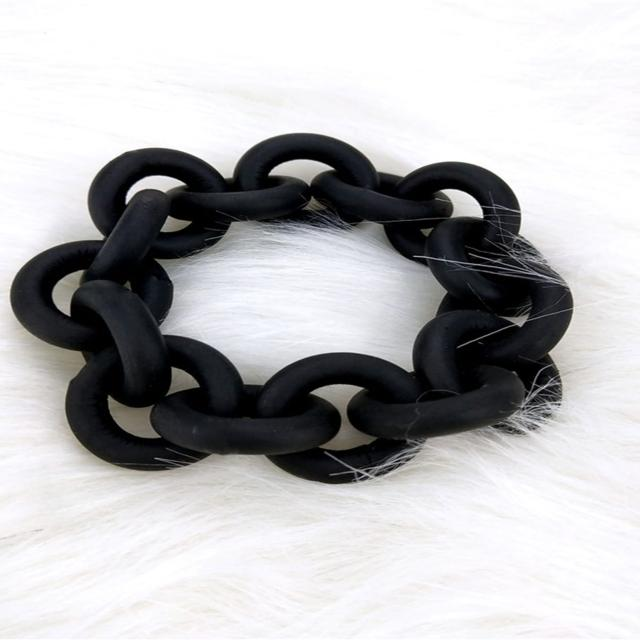bracelet: (0, 106, 640, 534)
